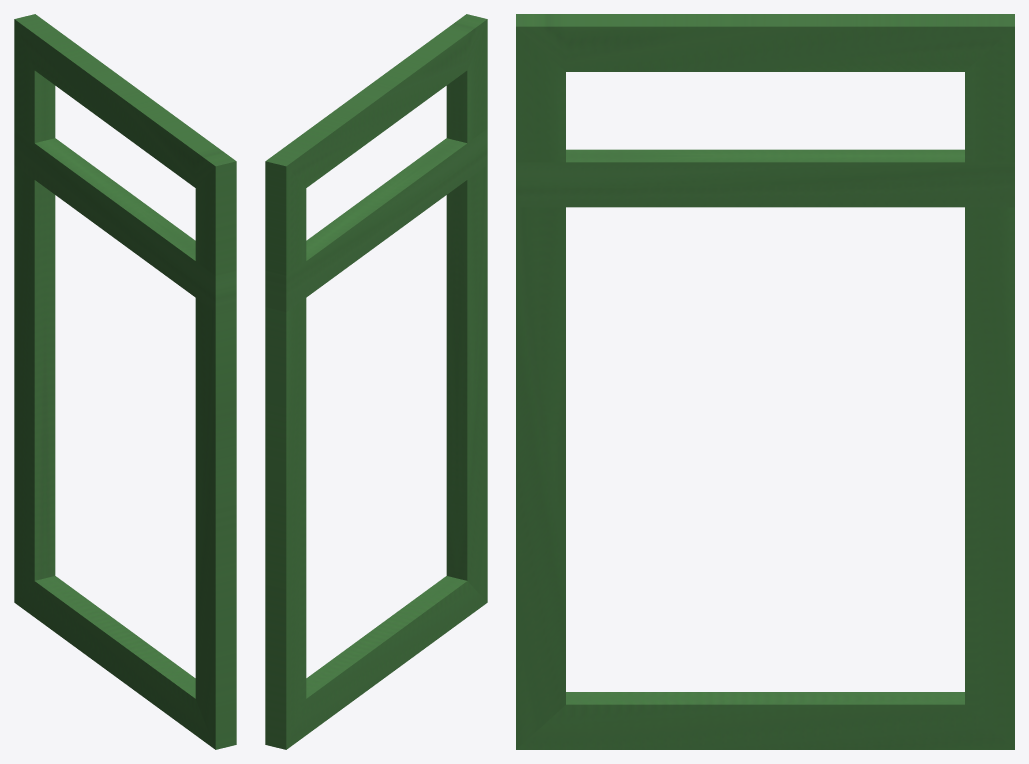
The model's file is Jendela.fbx.
3 renders of one model, left to right at view 1: azimuth 30°, elevation 25°; view 2: azimuth 150°, elevation 25°; view 3: azimuth 270°, elevation 25°, orthographic. The views are drawn at different scales.
Parts seen in each view (by area): view 1: Plane.000; view 2: Plane.000; view 3: Plane.000.
Boxes of the visible parts, x1,y1,x2,y2 form: Plane.000: (14,14,236,749); Plane.000: (265,14,487,749); Plane.000: (516,14,1014,749).
Size of the model in its own units: 6 by 160 by 100.
